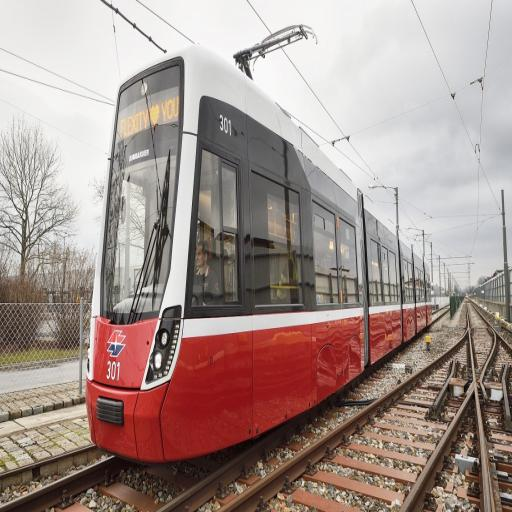Flexity: (84, 44, 433, 457)
